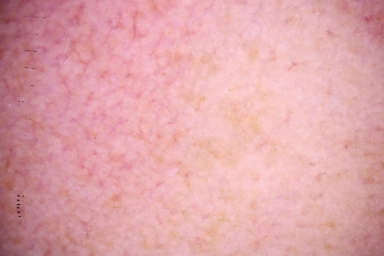melanoma: (158, 21, 271, 249)
